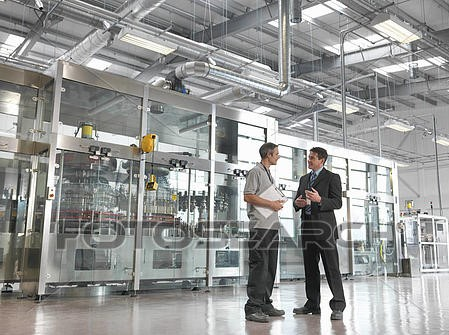noepi: (293, 146, 348, 320), (242, 142, 287, 323)
